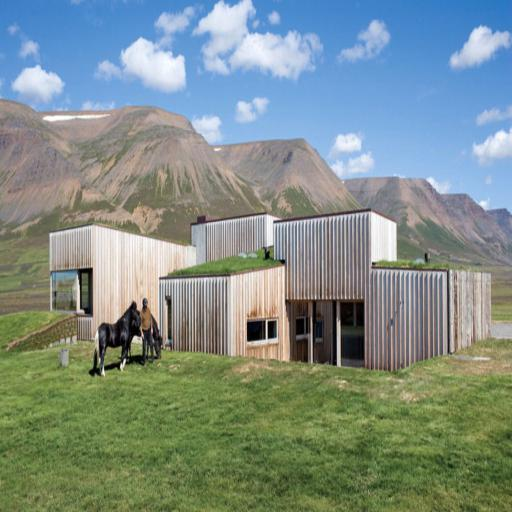horse: (92, 302, 142, 380), (128, 312, 164, 362)
